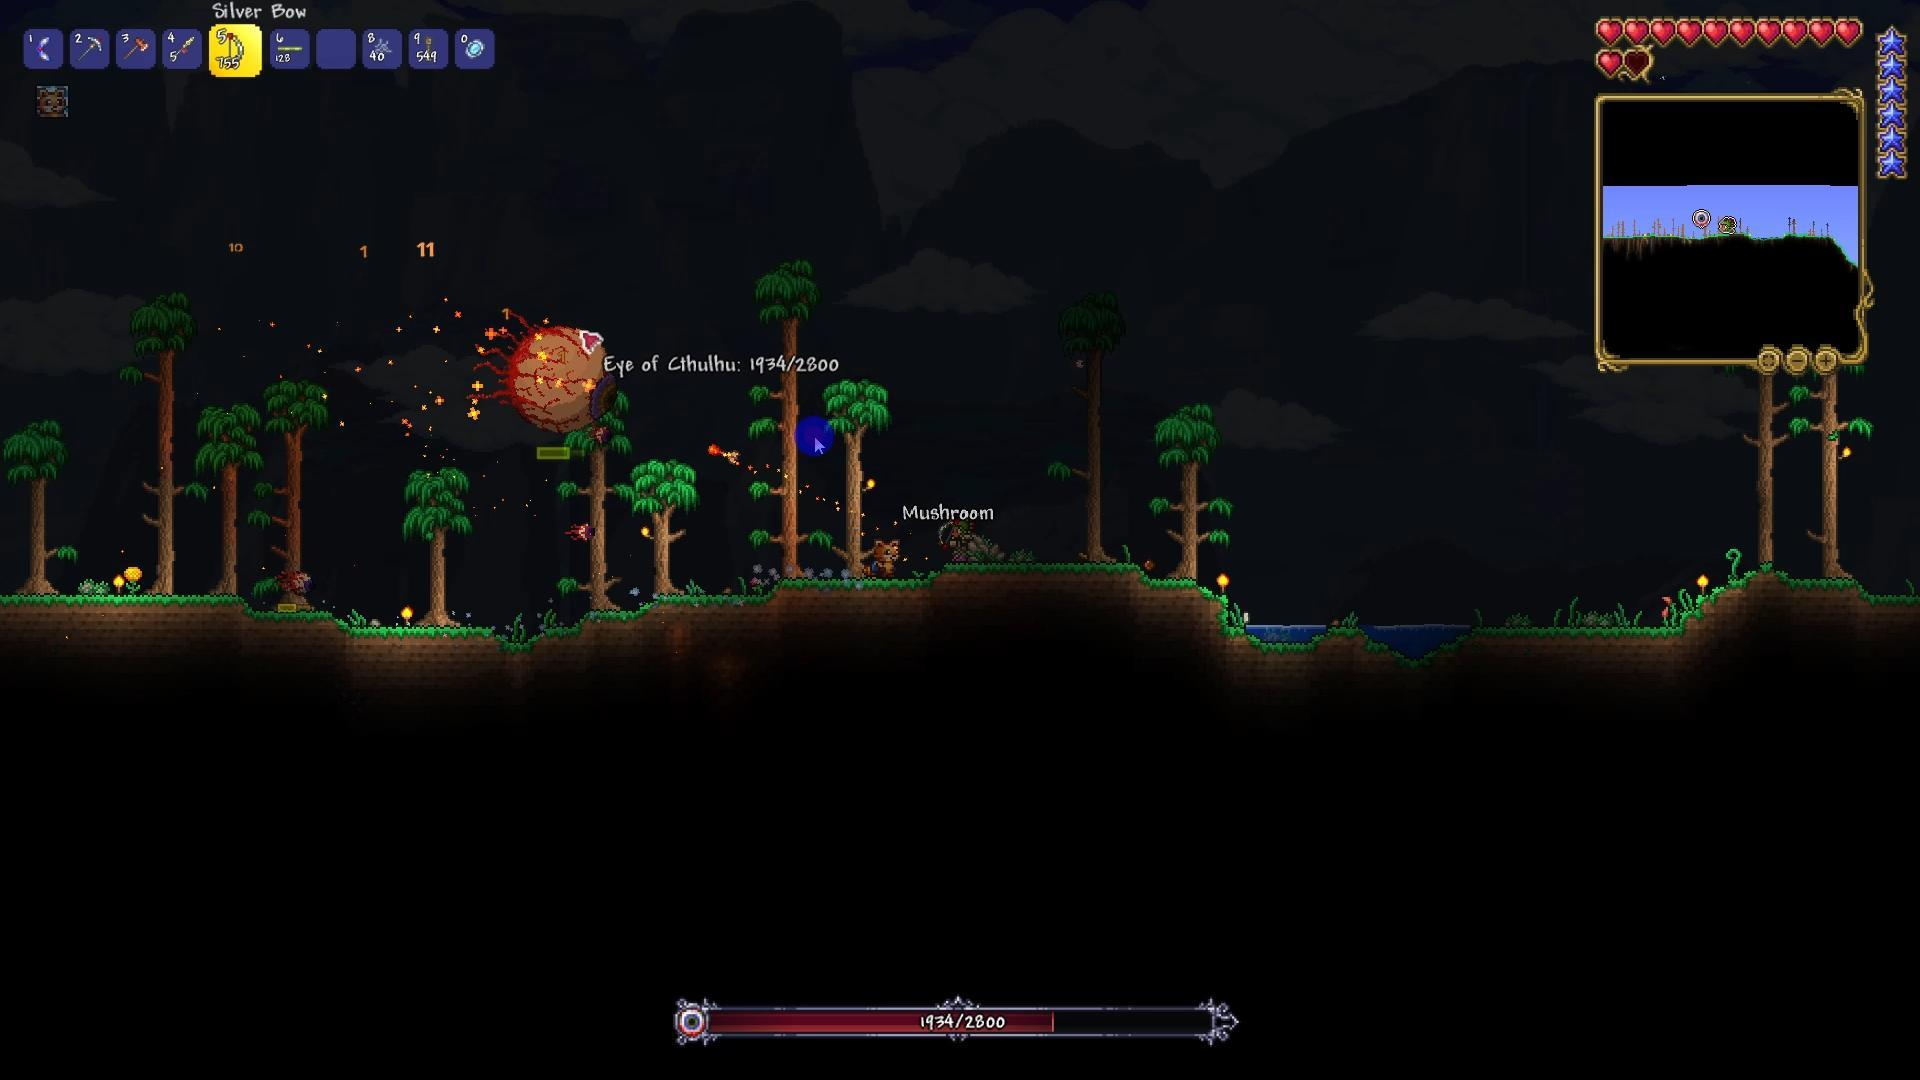dirt: (1254, 608, 1693, 708), (506, 582, 771, 654), (1684, 567, 1916, 645), (0, 582, 253, 637), (938, 559, 1145, 618), (1139, 568, 1261, 662), (771, 568, 943, 624), (339, 620, 497, 655), (237, 603, 345, 640)
